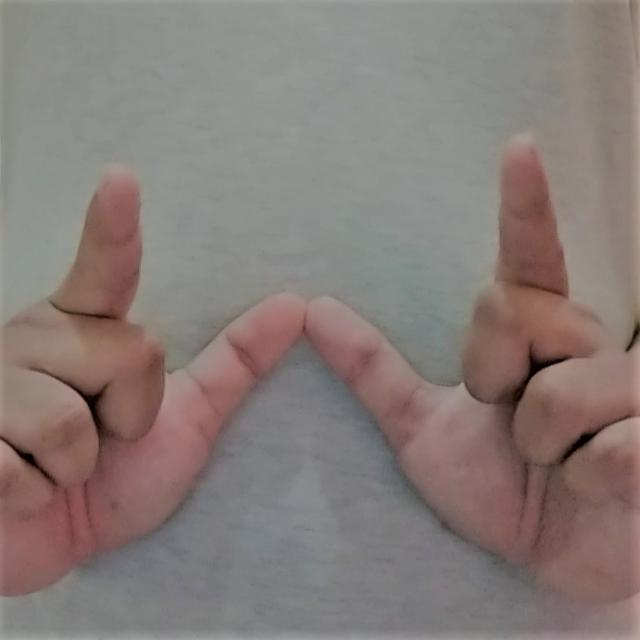W: (4, 121, 637, 630)
